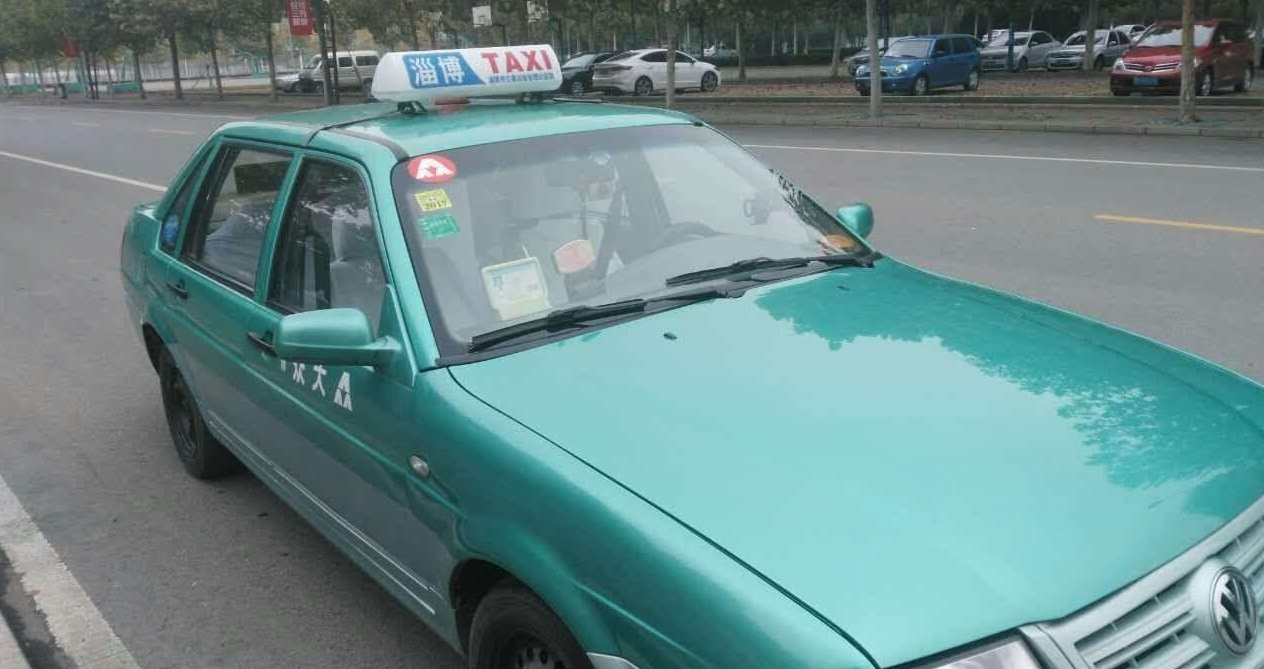taxi: (117, 39, 1264, 669)
